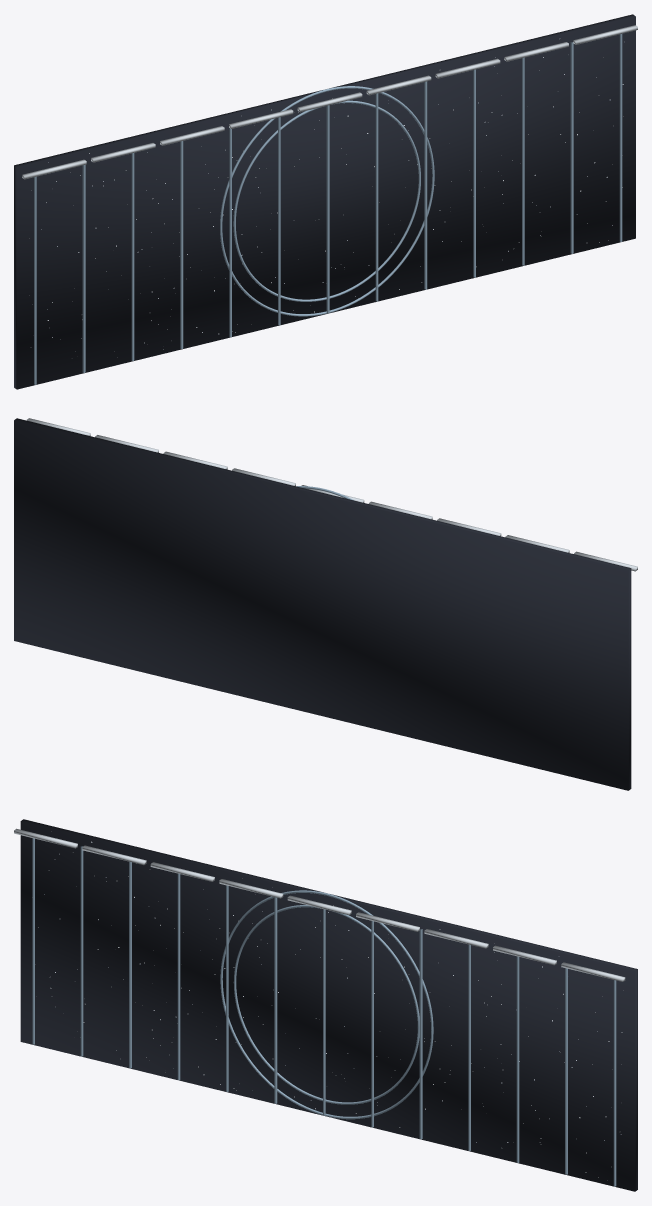
File: 01_L85_PanoramicEarthAndStarfieldViewport.glb
The picture shows the model from 3 angles, top to bottom: view 1: azimuth 30°, elevation 25°; view 2: azimuth 150°, elevation 25°; view 3: azimuth 330°, elevation 25°; orthographic projection.
Visible parts, largest first — view 1: L85_PanoramicEarthAndStarfiel_Part_0000, L85_PanoramicEarthAndStarfiel_Part_0001, L85_PanoramicEarthAndStarfiel_Part_0026, L85_PanoramicEarthAndStarfiel_Part_0002; view 2: L85_PanoramicEarthAndStarfiel_Part_0000, L85_PanoramicEarthAndStarfiel_Part_0026; view 3: L85_PanoramicEarthAndStarfiel_Part_0000, L85_PanoramicEarthAndStarfiel_Part_0001, L85_PanoramicEarthAndStarfiel_Part_0026, L85_PanoramicEarthAndStarfiel_Part_0002.
Part boxes in pixels (x1,y1,x2,y2): L85_PanoramicEarthAndStarfiel_Part_0000: [14, 14, 635, 389]; L85_PanoramicEarthAndStarfiel_Part_0001: [34, 42, 573, 384]; L85_PanoramicEarthAndStarfiel_Part_0026: [22, 25, 637, 179]; L85_PanoramicEarthAndStarfiel_Part_0002: [619, 34, 622, 241]; L85_PanoramicEarthAndStarfiel_Part_0000: [14, 418, 631, 790]; L85_PanoramicEarthAndStarfiel_Part_0026: [26, 418, 637, 571]; L85_PanoramicEarthAndStarfiel_Part_0000: [20, 819, 637, 1191]; L85_PanoramicEarthAndStarfiel_Part_0001: [32, 838, 567, 1174]; L85_PanoramicEarthAndStarfiel_Part_0026: [14, 828, 625, 981]; L85_PanoramicEarthAndStarfiel_Part_0002: [613, 980, 616, 1186].
Size of the model in its own units: 27.4 by 9.55 by 0.775.
